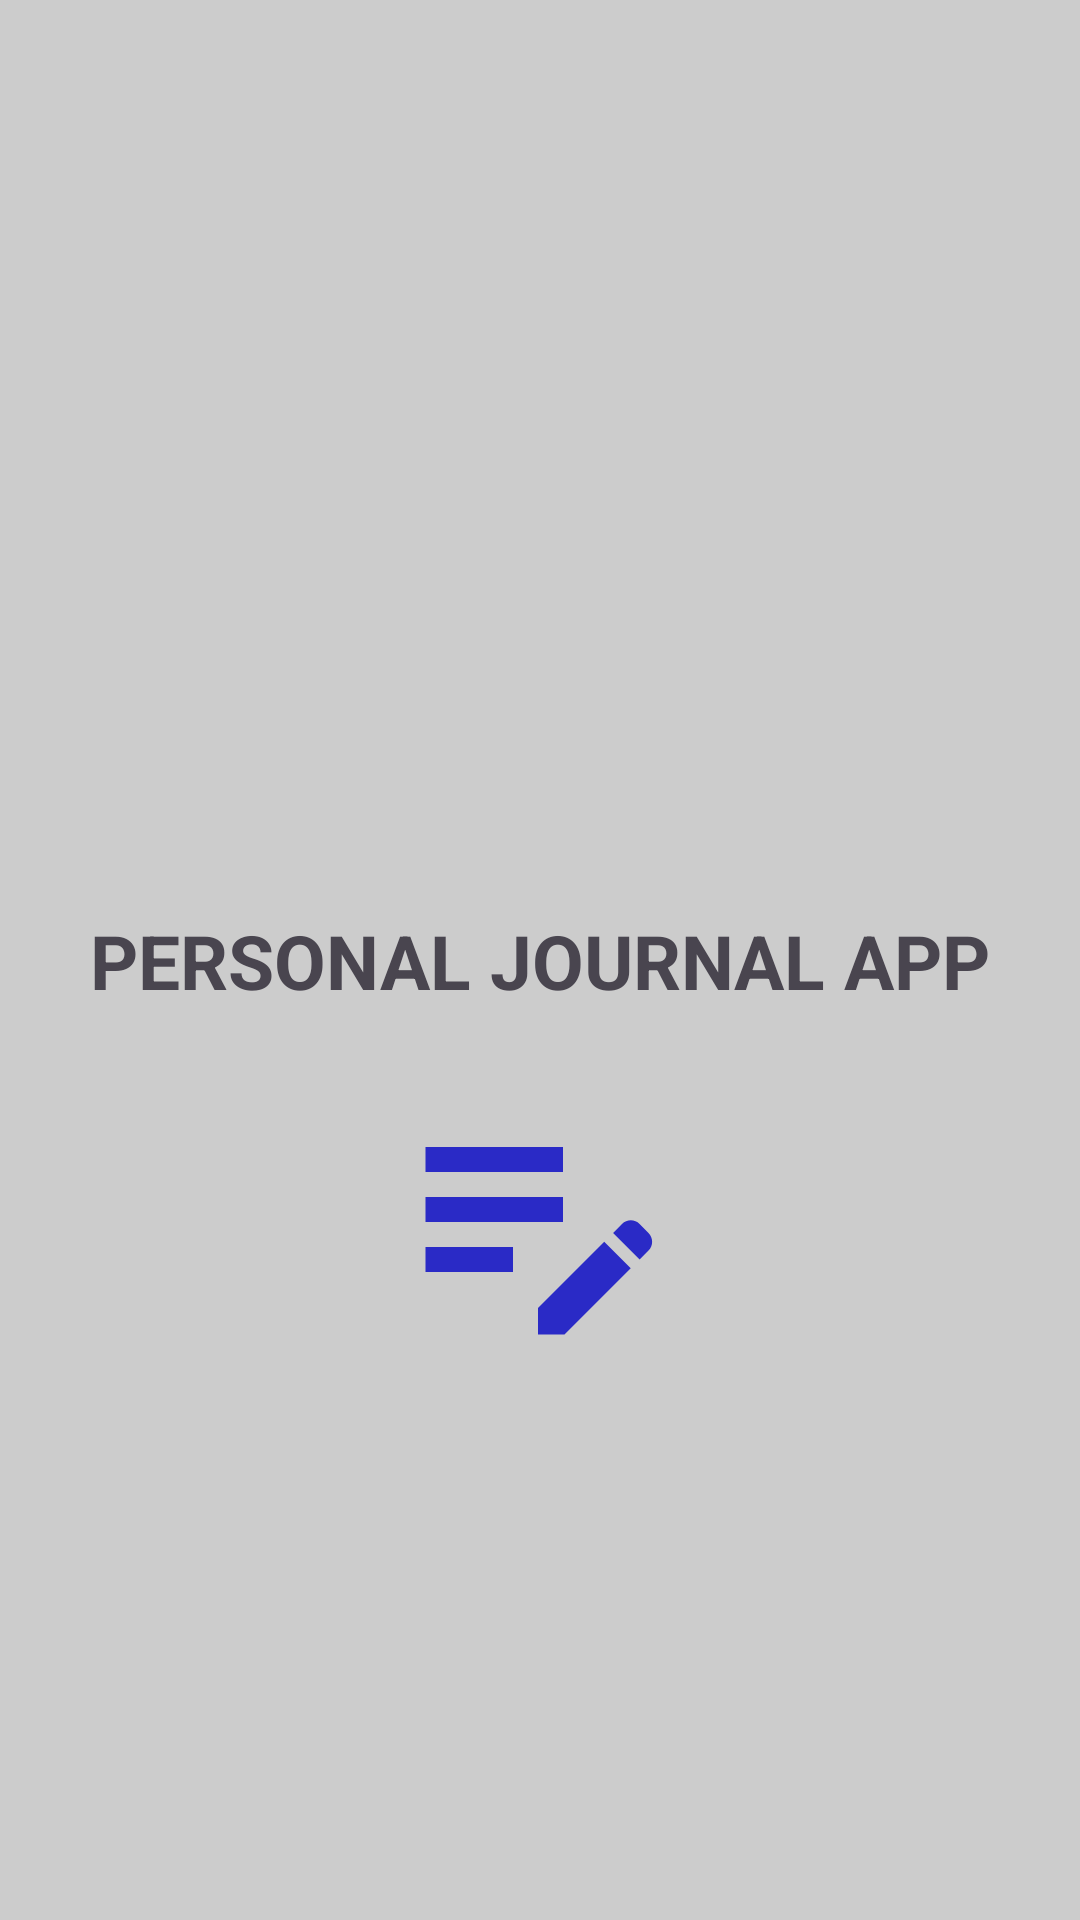

Point at icon controls on the screen. Image size 1080×1920, points as (x,y).
edit note: (538,1241)
